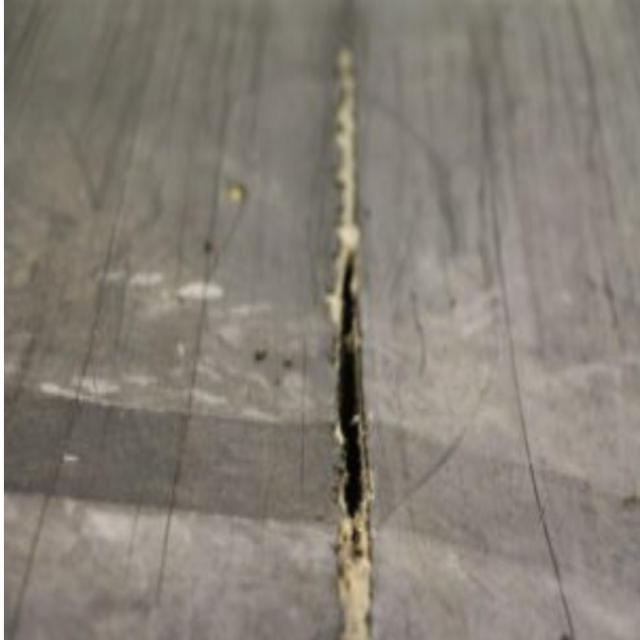Tear: (326, 234, 372, 536)
